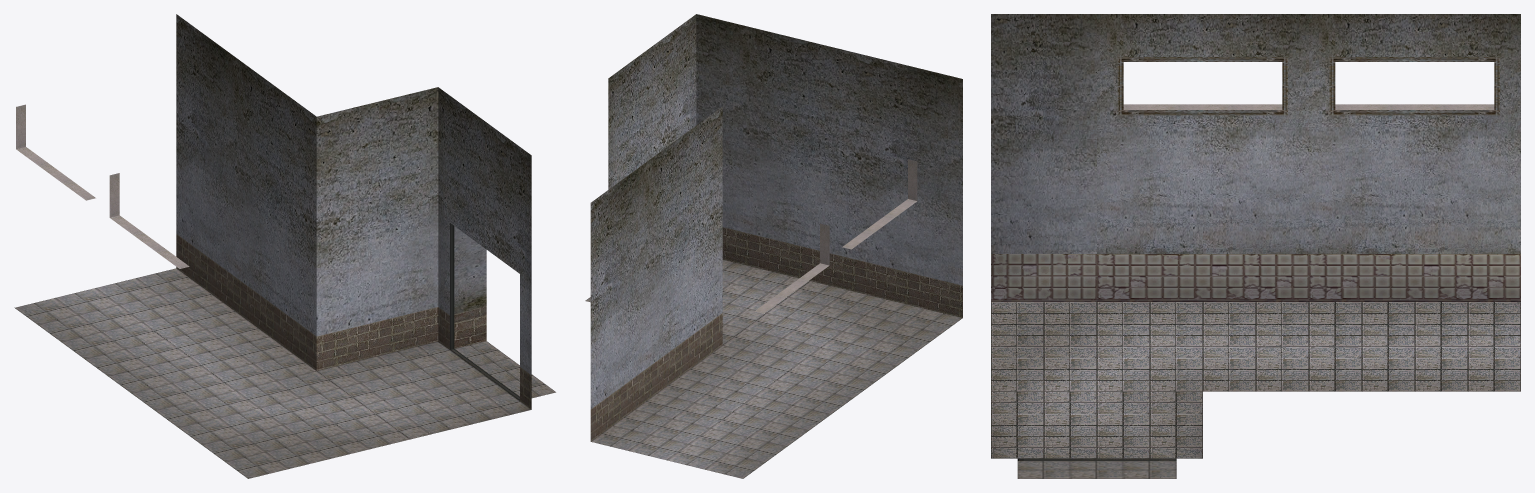
File: M11Z2_SCUDHouse03_G.glb
The picture shows the model from 3 angles, left to right: view 1: azimuth 30°, elevation 25°; view 2: azimuth 150°, elevation 25°; view 3: azimuth 270°, elevation 25°; orthographic projection. The views are drawn at different scales.
Parts seen in each view (by area): view 1: M11Z2_SCUDHOUSE03_G; view 2: M11Z2_SCUDHOUSE03_G; view 3: M11Z2_SCUDHOUSE03_G.
Boxes of the visible parts, x1=… form: M11Z2_SCUDHOUSE03_G: x1=14, y1=14, x2=555, y2=478; M11Z2_SCUDHOUSE03_G: x1=585, y1=14, x2=962, y2=478; M11Z2_SCUDHOUSE03_G: x1=991, y1=14, x2=1520, y2=478.
Size of the model in its own units: 8.15 by 6 by 10.
Materials: 7 (7 with a texture image).
